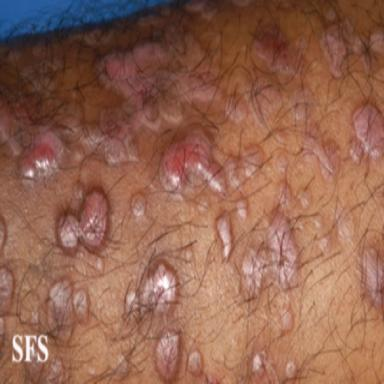Epidermolysis-Bullosa-Pruriginosa: (78, 24, 222, 165), (241, 181, 298, 298), (159, 132, 227, 195), (56, 181, 109, 253), (320, 20, 384, 78), (125, 256, 179, 317), (48, 280, 89, 340), (251, 27, 301, 75), (19, 129, 65, 179), (21, 41, 64, 92), (349, 104, 384, 163), (359, 243, 384, 312), (248, 80, 282, 128), (303, 137, 340, 180), (226, 146, 263, 188), (0, 100, 23, 157), (155, 331, 181, 381), (216, 213, 233, 260), (335, 205, 353, 244), (185, 0, 217, 20), (292, 90, 311, 121), (43, 359, 64, 384), (131, 193, 147, 219), (187, 350, 203, 376), (281, 307, 293, 334), (228, 104, 246, 122), (252, 351, 266, 372), (116, 355, 128, 377), (236, 198, 247, 219), (285, 360, 297, 379), (299, 190, 311, 208), (318, 235, 329, 253), (277, 154, 287, 173), (275, 130, 285, 144), (231, 1, 251, 7), (326, 8, 335, 21), (314, 215, 322, 229), (96, 258, 103, 272)
